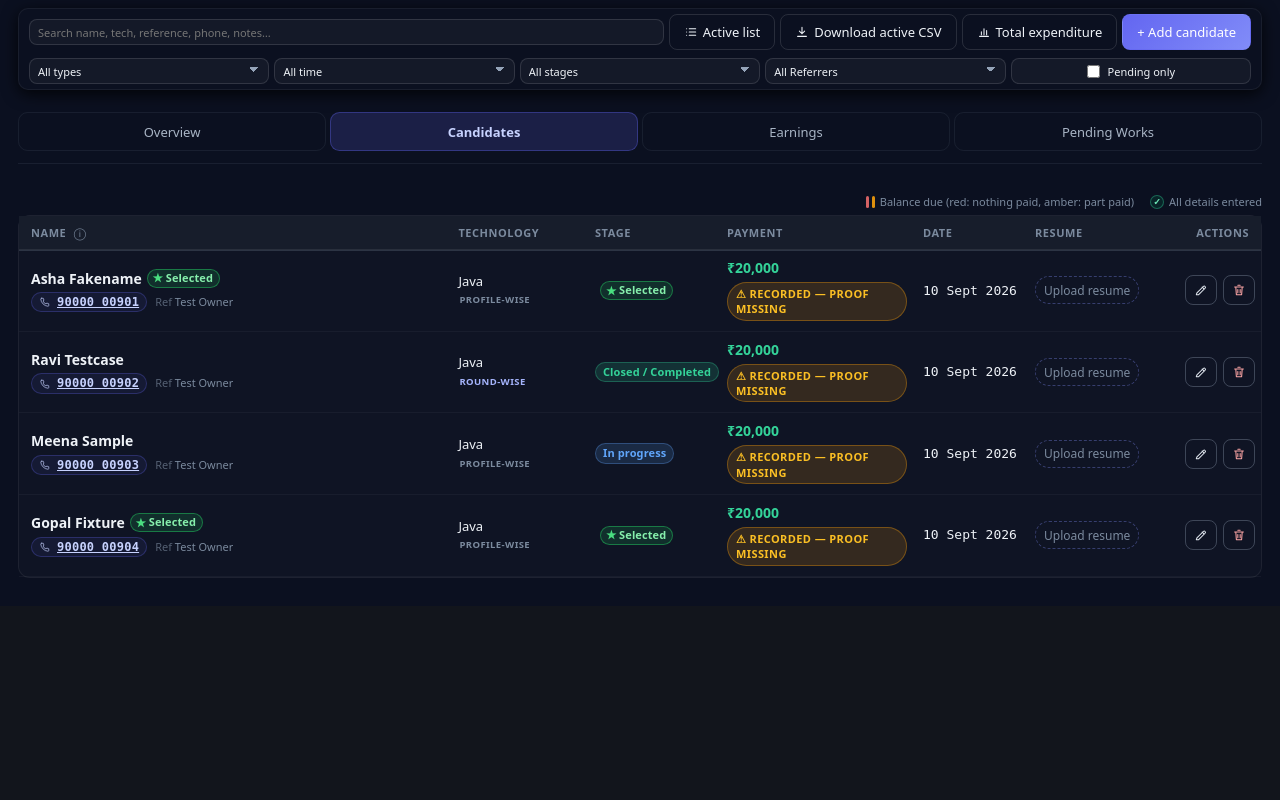
the Overview counts › names the Selected among the completed
Expected: the text "Asha Fakename" is shown, [31,268,142,287]
Click the tab "Overview" at [172, 132], box [18,112,326,151]
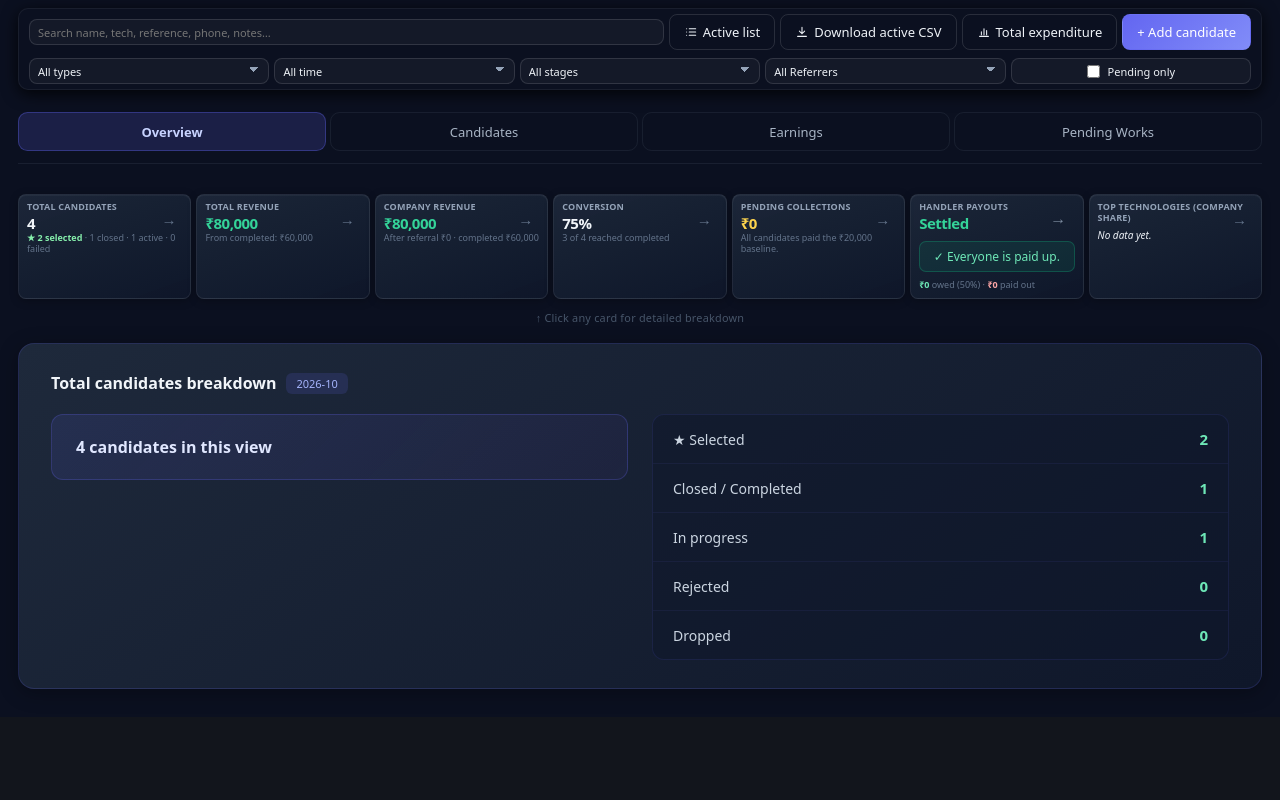
Now the text with class "cand-stat-selected" reads "★ 2 selected", box [27,232,82,244]
Now the element with class "cand-stat-card" shows "1 closed", box [18,194,191,299]
